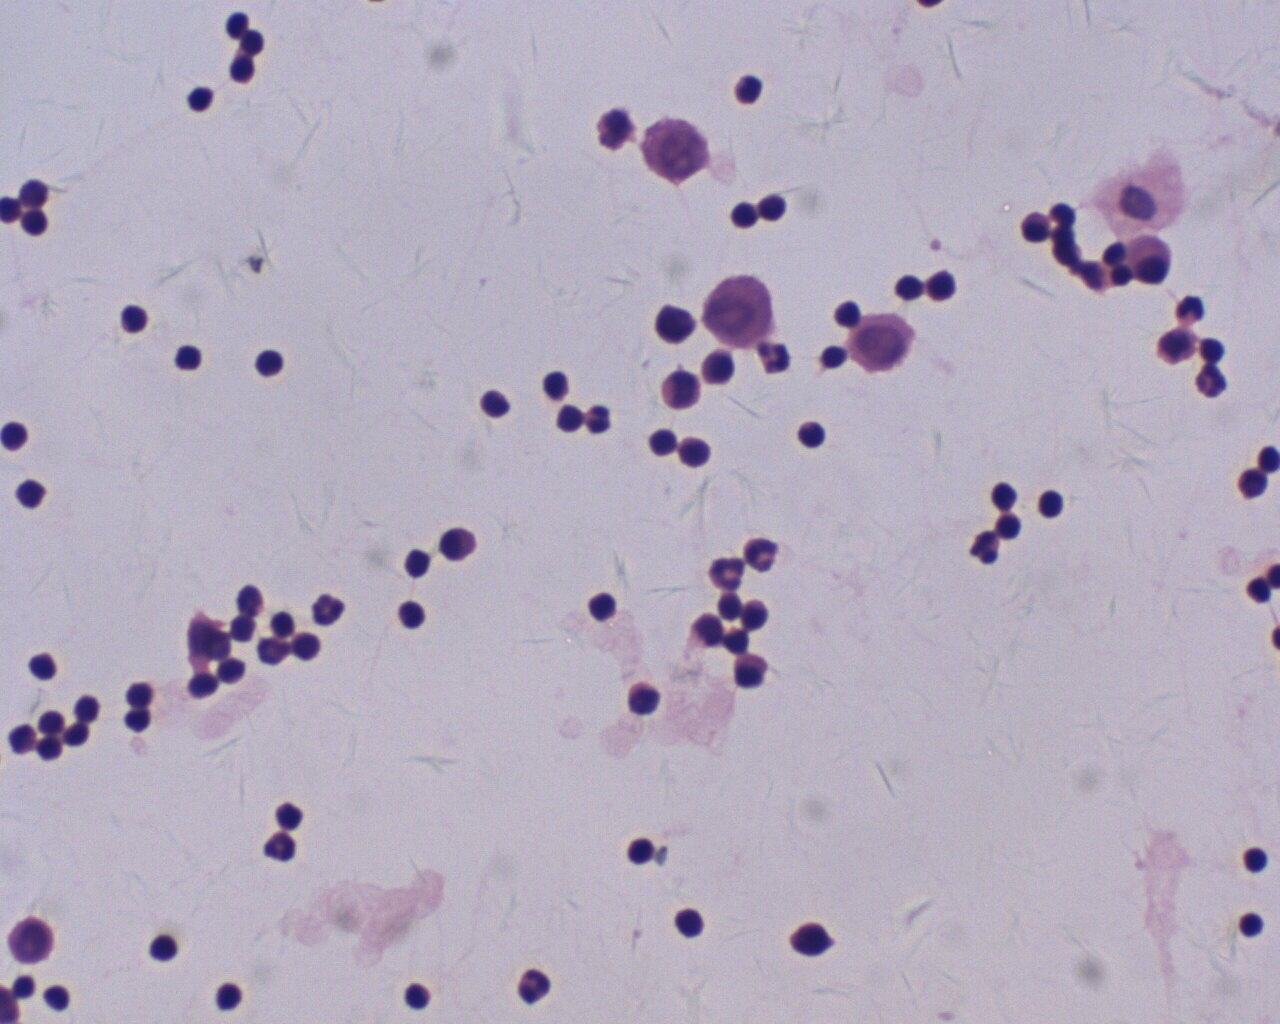ab: (696, 275, 779, 348), (635, 115, 713, 184), (850, 310, 915, 377), (7, 914, 59, 968)
lymph: (16, 472, 57, 518), (167, 338, 216, 375), (115, 297, 156, 341), (623, 829, 662, 872), (921, 264, 959, 308), (397, 976, 438, 1017), (728, 69, 768, 111), (396, 595, 435, 637), (1030, 486, 1071, 525), (667, 905, 708, 942), (27, 648, 66, 686), (207, 978, 245, 1017), (142, 930, 182, 967), (184, 83, 222, 120), (1238, 841, 1277, 878), (643, 422, 678, 462), (1232, 908, 1269, 945), (474, 387, 511, 422), (625, 682, 659, 718), (790, 419, 829, 450), (584, 594, 620, 625), (248, 349, 283, 376)
meso: (1123, 227, 1174, 289)
neutro: (305, 587, 353, 630), (257, 828, 303, 871), (739, 533, 781, 573), (968, 528, 1007, 569), (705, 556, 748, 594), (1191, 362, 1228, 405), (1167, 293, 1211, 329), (582, 397, 619, 438), (516, 969, 554, 1006)
